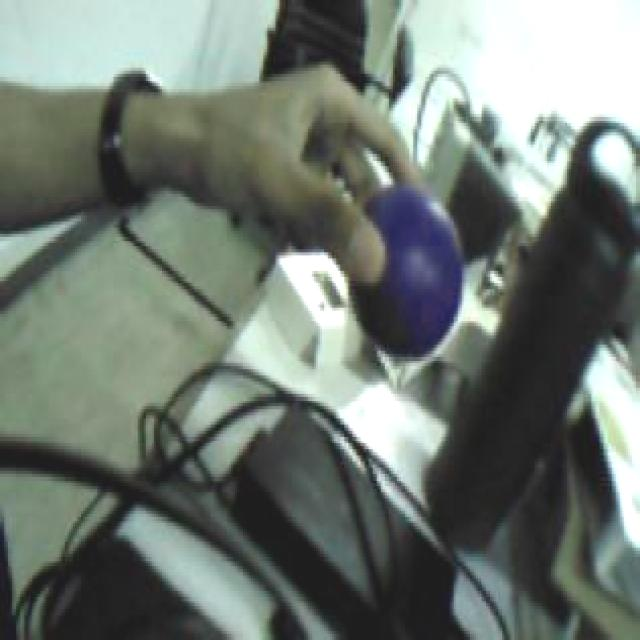BallPurple: (347, 185, 461, 356)
